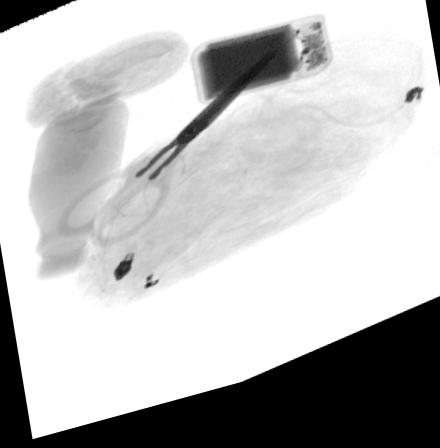Powerbank: (180, 27, 342, 118)
Scissors: (57, 61, 288, 254)
